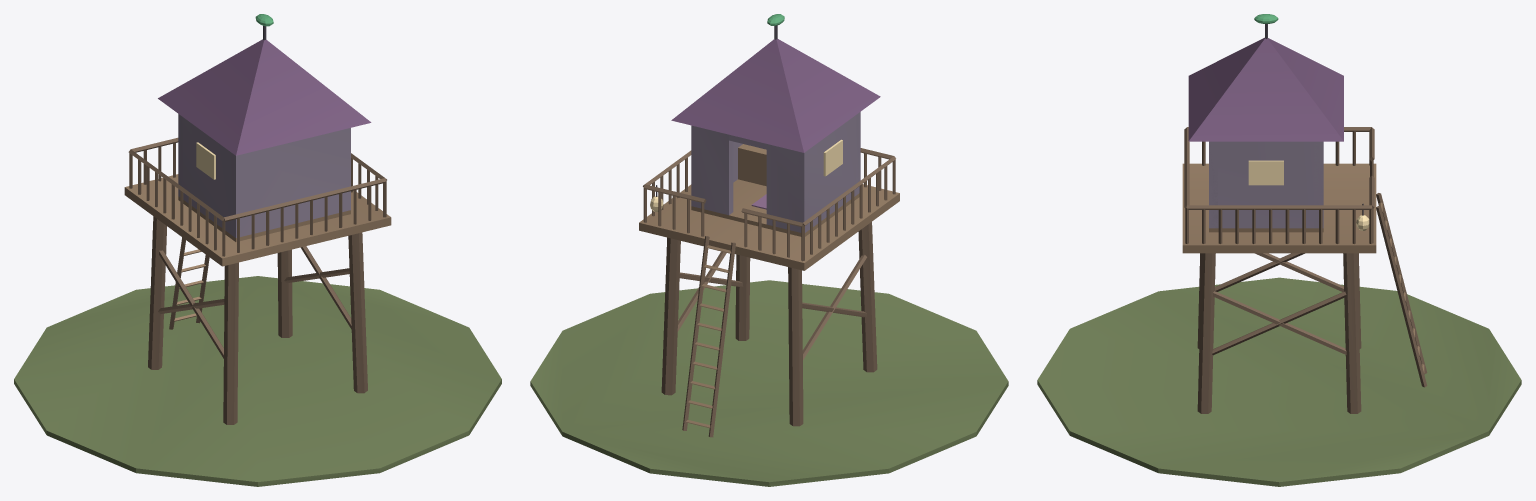
Rendered from StiltWatchtower.fbx.
3 views of the same model, side by side, from view 1: azimuth 30°, elevation 25°; view 2: azimuth 150°, elevation 25°; view 3: azimuth 270°, elevation 25° (orthographic). The views are drawn at different scales.
Parts seen in each view (by area): view 1: Bld_StiltWatchtower, Bld_StiltWatchtower_Roof; view 2: Bld_StiltWatchtower, Bld_StiltWatchtower_Roof; view 3: Bld_StiltWatchtower, Bld_StiltWatchtower_Roof.
Part boxes in pixels (left/top/right/bottom): Bld_StiltWatchtower: left=14, top=114, right=501, bottom=486; Bld_StiltWatchtower_Roof: left=158, top=14, right=371, bottom=155; Bld_StiltWatchtower: left=530, top=112, right=1008, bottom=486; Bld_StiltWatchtower_Roof: left=671, top=14, right=880, bottom=152; Bld_StiltWatchtower: left=1037, top=127, right=1521, bottom=486; Bld_StiltWatchtower_Roof: left=1188, top=14, right=1343, bottom=141.
Bounding box in the file's own units: 11 × 9.27 × 11.
